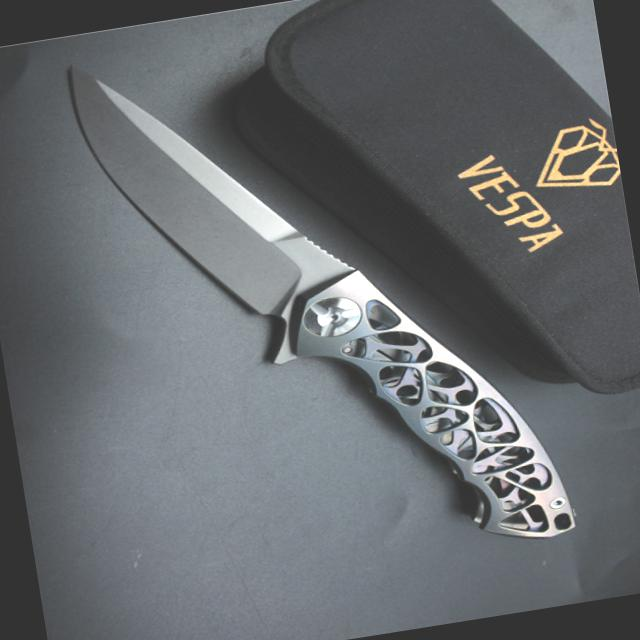knife: (53, 13, 400, 399)
